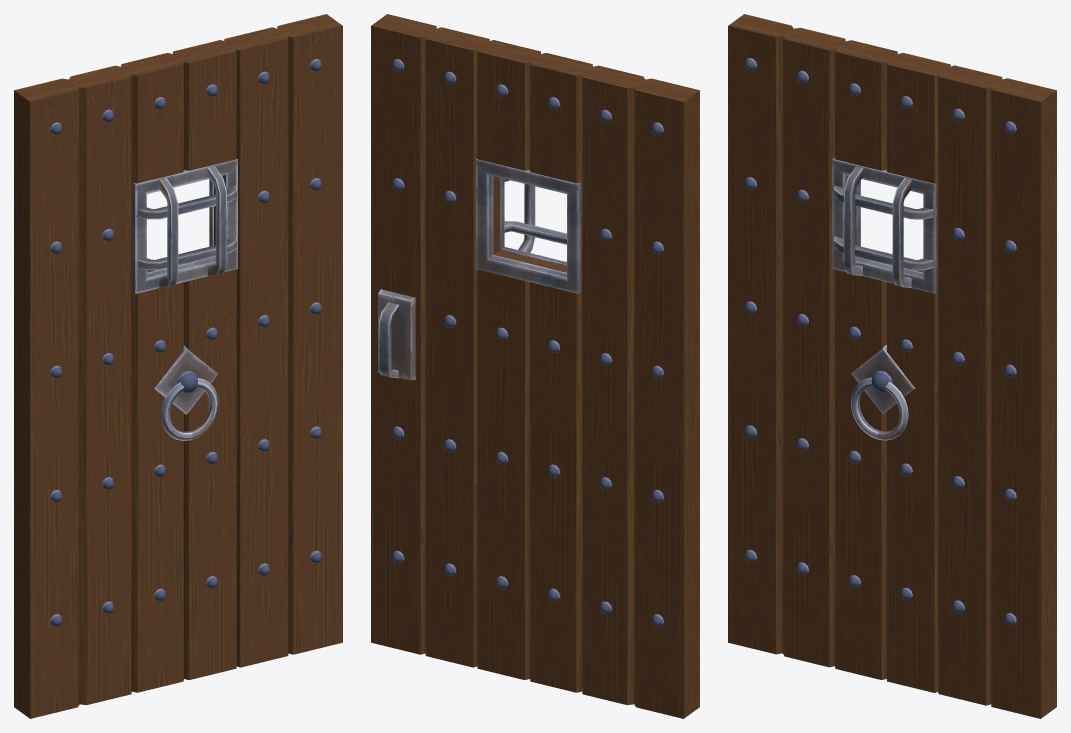
Rendered from Door_2_Flat.gltf.
3 renders of one model, left to right at view 1: azimuth 30°, elevation 25°; view 2: azimuth 150°, elevation 25°; view 3: azimuth 330°, elevation 25°, orthographic.
Parts seen in each view (by area): view 1: Door_2_Flat; view 2: Door_2_Flat; view 3: Door_2_Flat.
Part boxes in pixels (x1,y1,x2,y2): Door_2_Flat: [14, 14, 342, 718]; Door_2_Flat: [371, 14, 699, 718]; Door_2_Flat: [728, 14, 1056, 718].
Bounding box in the file's own units: 1.11 × 2.1 × 0.2609.
Materials: 2 (2 with a texture image).
